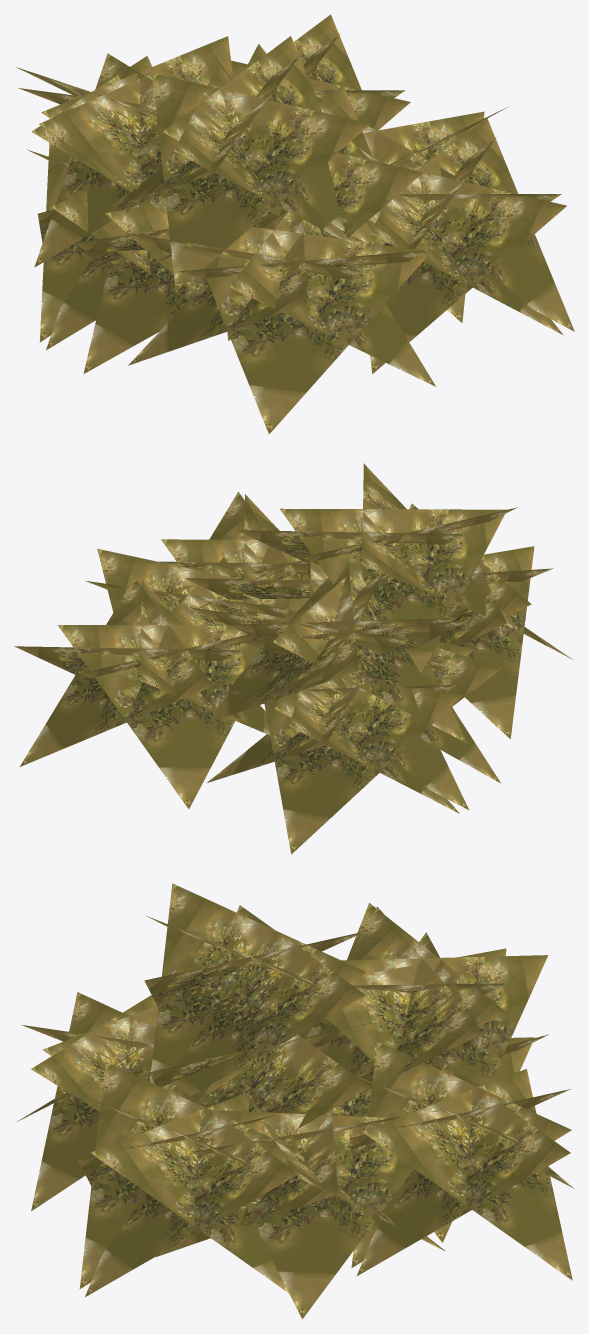
File: flora_tree_bush_steppe_01_v2.glb
3 views of the same model, one above another, from view 1: azimuth 30°, elevation 25°; view 2: azimuth 150°, elevation 25°; view 3: azimuth 270°, elevation 25° (orthographic). The views are drawn at different scales.
Visible parts, largest first — view 1: flora_tree_bush_steppe_01_v2_part0; view 2: flora_tree_bush_steppe_01_v2_part0; view 3: flora_tree_bush_steppe_01_v2_part0.
Part boxes in pixels (<box>): flora_tree_bush_steppe_01_v2_part0: <box>16,14,574,434</box>; flora_tree_bush_steppe_01_v2_part0: <box>14,463,572,854</box>; flora_tree_bush_steppe_01_v2_part0: <box>15,883,574,1319</box>.
Bounding box in the file's own units: 12.63 × 6.92 × 13.59.
1 material, 1 textured.
